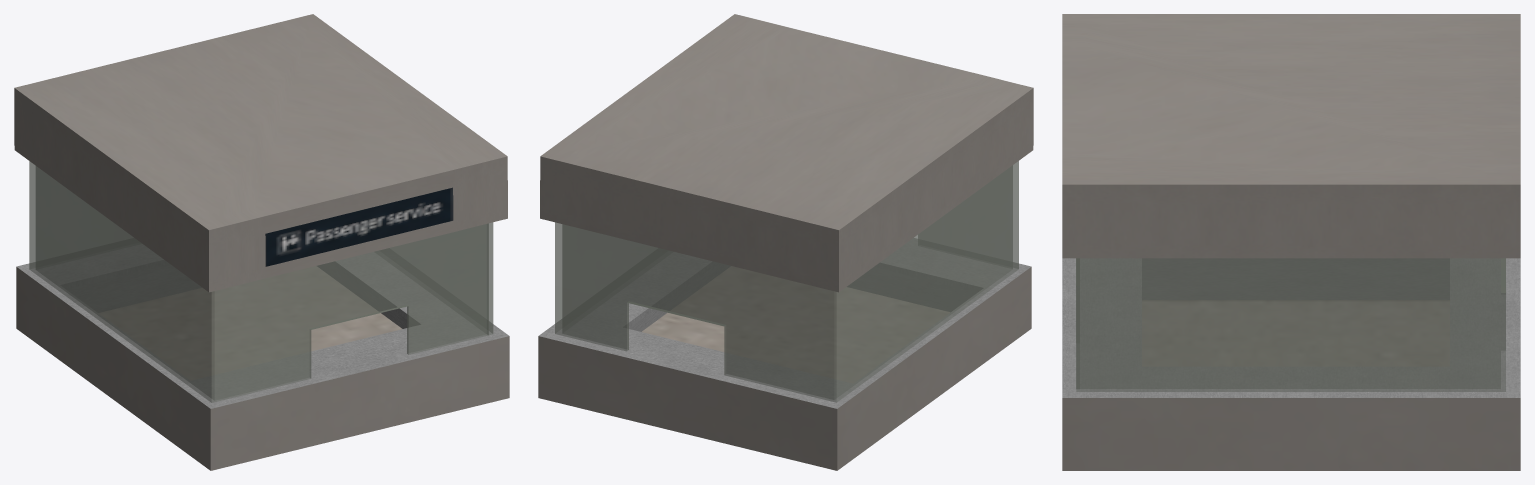
The model's file is mrt service.fbx.
3 renders of one model, left to right at view 1: azimuth 30°, elevation 25°; view 2: azimuth 150°, elevation 25°; view 3: azimuth 270°, elevation 25°, orthographic. The views are drawn at different scales.
Visible parts, largest first — view 1: polySurface1; view 2: polySurface1; view 3: polySurface1.
Boxes of the visible parts, x1,y1,x2,y2 form: polySurface1: (14, 14, 509, 470); polySurface1: (538, 14, 1033, 470); polySurface1: (1062, 14, 1520, 470).
Size of the model in its own units: 643 by 495 by 721.
Materials: 2 (2 with a texture image).
